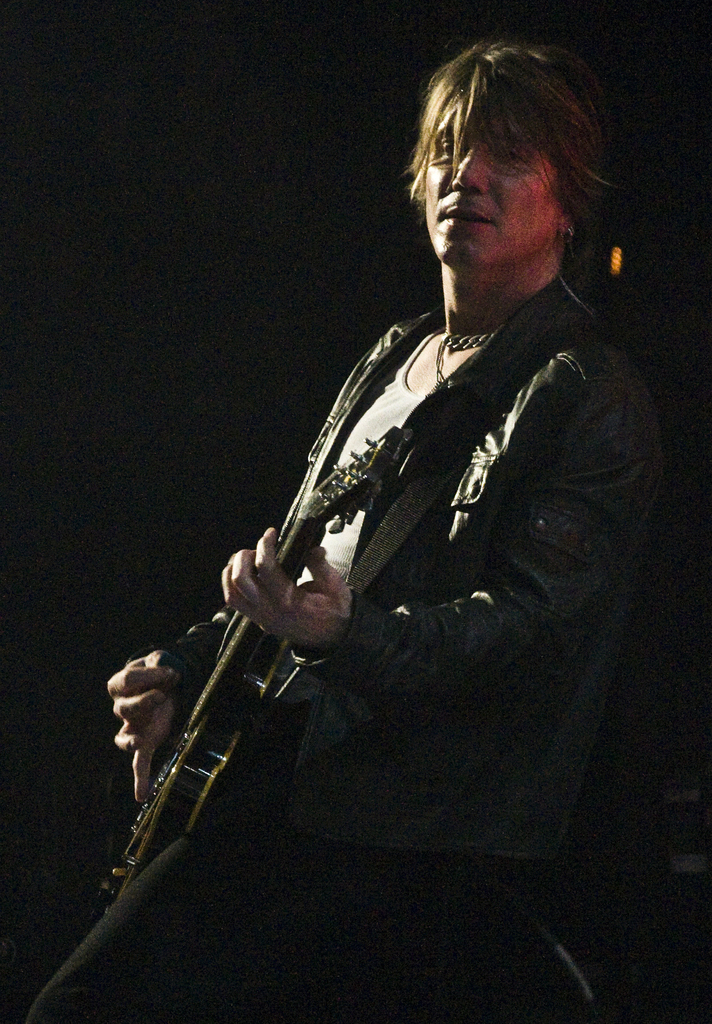Person: (25, 40, 661, 1023)
